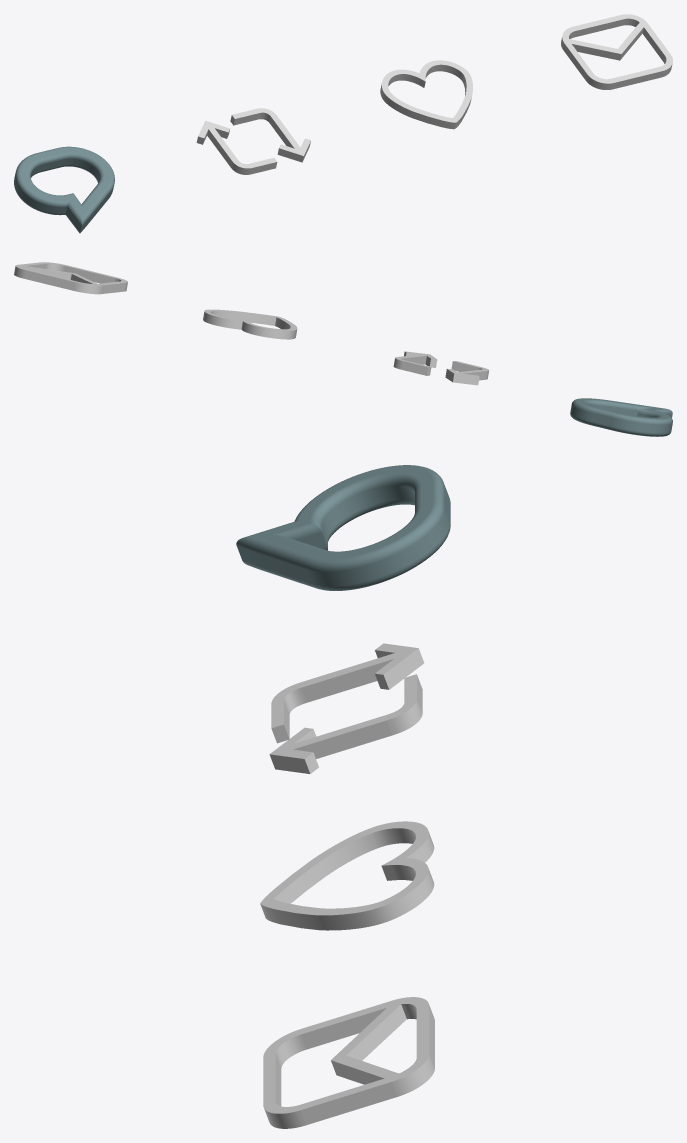
Rendered from twitter_button_floatRound2.fbx.
The picture shows the model from 3 angles, top to bottom: view 1: azimuth 30°, elevation 25°; view 2: azimuth 150°, elevation 25°; view 3: azimuth 270°, elevation 25°; orthographic projection. The views are drawn at different scales.
Parts seen in each view (by area): view 1: Rounding_1, Path_7, Cap_1_5, Cap_1_4, Cap_1, Path_5, Path_1, Path_4, Path_3, Cap_1_2, Cap_1_3; view 2: Path_7, Path_5, Path_1, Rounding_1, Path_3, Path_4, Cap_1_5, Rounding_2, Cap_1, Cap_1_4; view 3: Path_7, Path_5, Rounding_1, Path_1, Cap_1_5, Cap_1_4, Cap_1, Path_4, Path_3, Cap_1_2, Cap_1_3, Rounding_2.
Boxes of the visible parts, x1=… form: Rounding_1: x1=15, y1=146, x2=114, y2=226; Path_7: x1=561, y1=18, x2=672, y2=89; Cap_1_5: x1=562, y1=14, x2=672, y2=83; Cap_1_4: x1=381, y1=60, x2=472, y2=122; Cap_1: x1=20, y1=148, x2=111, y2=216; Path_5: x1=380, y1=64, x2=471, y2=129; Path_1: x1=14, y1=158, x2=114, y2=232; Path_4: x1=230, y1=112, x2=310, y2=162; Path_3: x1=196, y1=128, x2=277, y2=174; Cap_1_2: x1=198, y1=120, x2=276, y2=168; Cap_1_3: x1=232, y1=108, x2=310, y2=155; Path_7: x1=14, y1=263, x2=127, y2=294; Path_5: x1=203, y1=311, x2=297, y2=339; Path_1: x1=570, y1=404, x2=672, y2=433; Rounding_1: x1=572, y1=398, x2=672, y2=424; Path_3: x1=445, y1=361, x2=488, y2=385; Path_4: x1=393, y1=351, x2=437, y2=375; Cap_1_5: x1=15, y1=262, x2=127, y2=285; Rounding_2: x1=570, y1=413, x2=670, y2=436; Cap_1: x1=577, y1=398, x2=669, y2=419; Cap_1_4: x1=204, y1=309, x2=297, y2=330; Path_7: x1=264, y1=1004, x2=434, y2=1128; Path_5: x1=260, y1=828, x2=434, y2=930; Rounding_1: x1=236, y1=465, x2=444, y2=571; Path_1: x1=237, y1=485, x2=450, y2=586; Cap_1_5: x1=263, y1=997, x2=429, y2=1113; Cap_1_4: x1=260, y1=821, x2=428, y2=915; Cap_1: x1=249, y1=466, x2=433, y2=559; Path_4: x1=269, y1=675, x2=422, y2=773; Path_3: x1=271, y1=648, x2=424, y2=743; Cap_1_2: x1=271, y1=643, x2=418, y2=728; Cap_1_3: x1=270, y1=674, x2=416, y2=758; Rounding_2: x1=242, y1=500, x2=450, y2=590.
Size of the model in its own units: 332 by 22.41 by 48.7.
